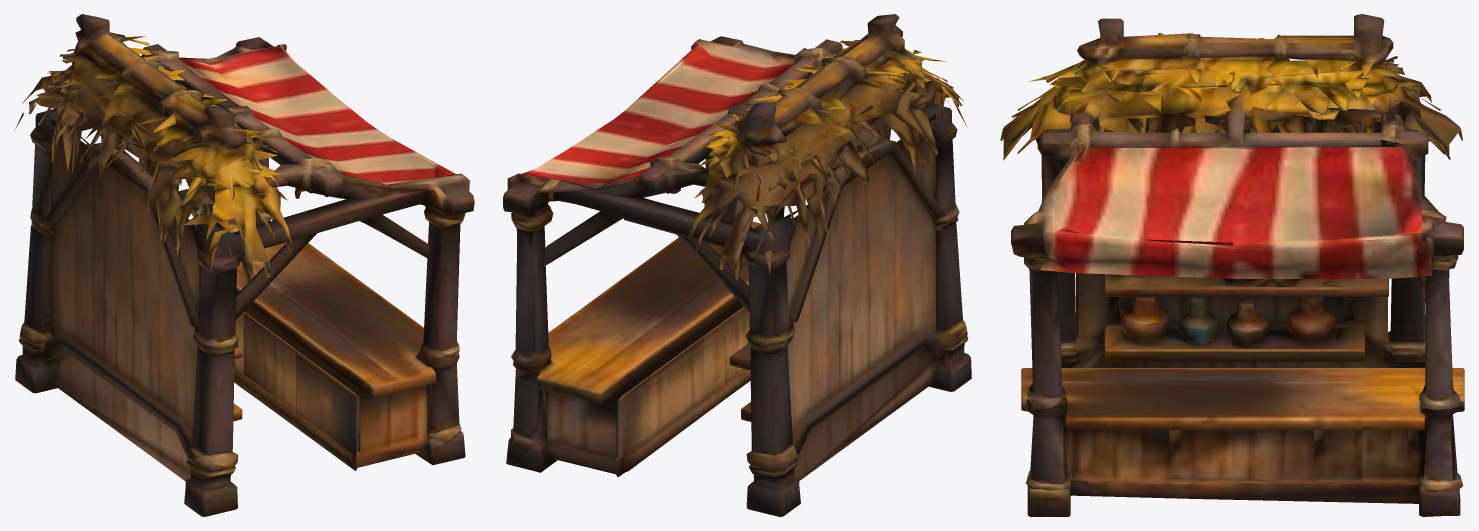
Rendered from prop-market-stall-awning-v3-desktop.glb.
3 renders of one model, left to right at view 1: azimuth 30°, elevation 25°; view 2: azimuth 150°, elevation 25°; view 3: azimuth 270°, elevation 25°, orthographic. The views are drawn at different scales.
Parts seen in each view (by area): view 1: tripo_node_5936ca31-0466-43c7-94ca-a3486f93afa6; view 2: tripo_node_5936ca31-0466-43c7-94ca-a3486f93afa6; view 3: tripo_node_5936ca31-0466-43c7-94ca-a3486f93afa6.
Part boxes in pixels (x1,y1,x2,y2): tripo_node_5936ca31-0466-43c7-94ca-a3486f93afa6: (15, 14, 474, 516); tripo_node_5936ca31-0466-43c7-94ca-a3486f93afa6: (503, 14, 971, 516); tripo_node_5936ca31-0466-43c7-94ca-a3486f93afa6: (1000, 14, 1464, 516).
Size of the model in its own units: 0.728 by 0.9295 by 0.9941.
1 material, 1 textured.
